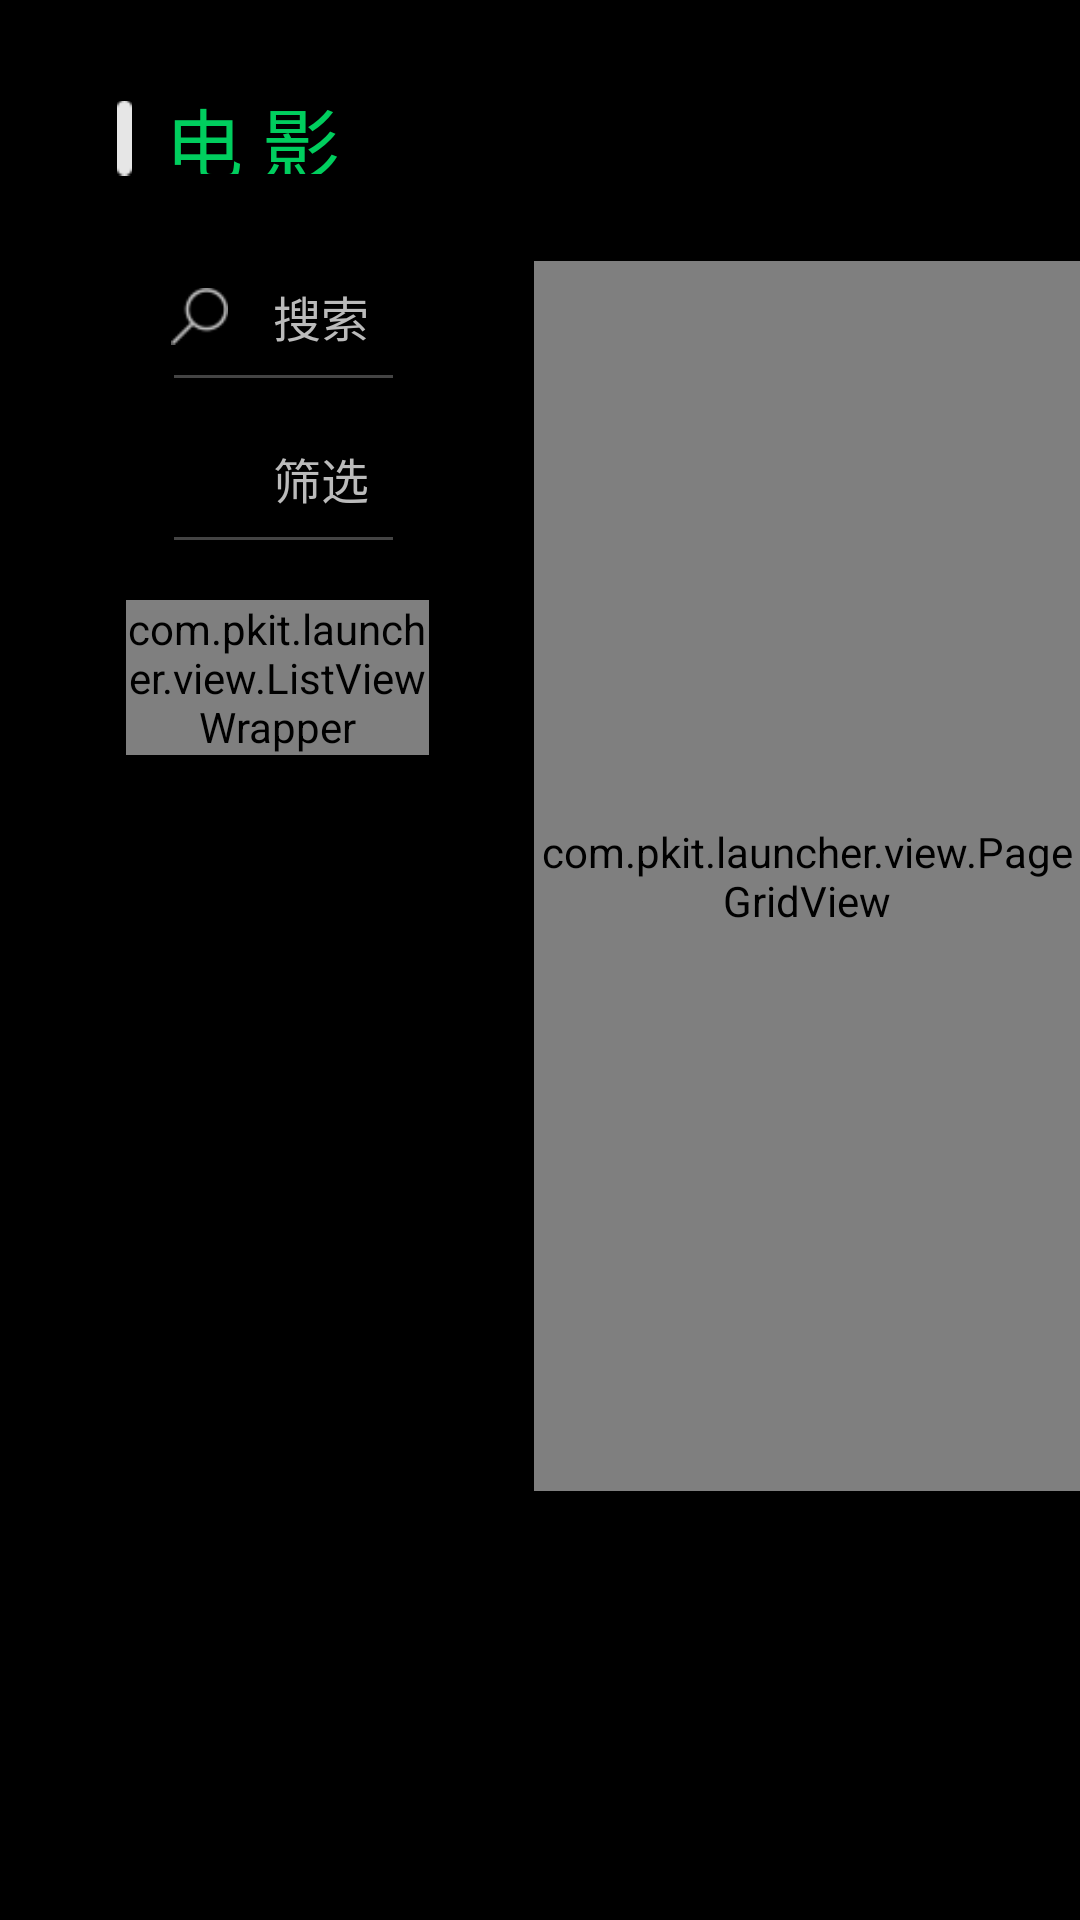

Icons on this 1080px×1920px Android screen, each with the point to tap as [x,y]:
browser search: [199,316]
